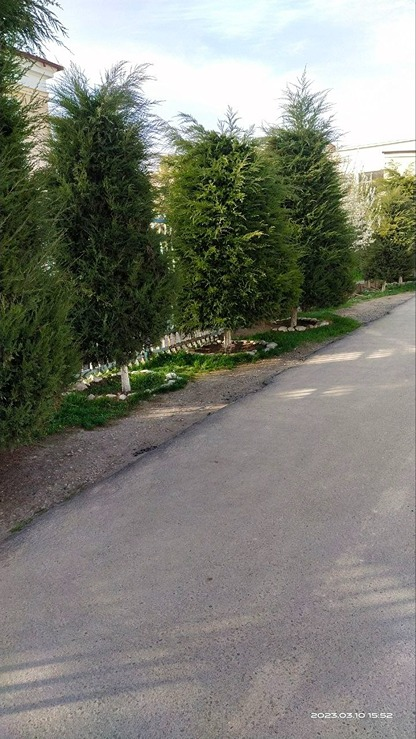tree: (42, 61, 171, 368), (150, 108, 302, 341), (265, 61, 381, 295), (368, 155, 416, 286)
